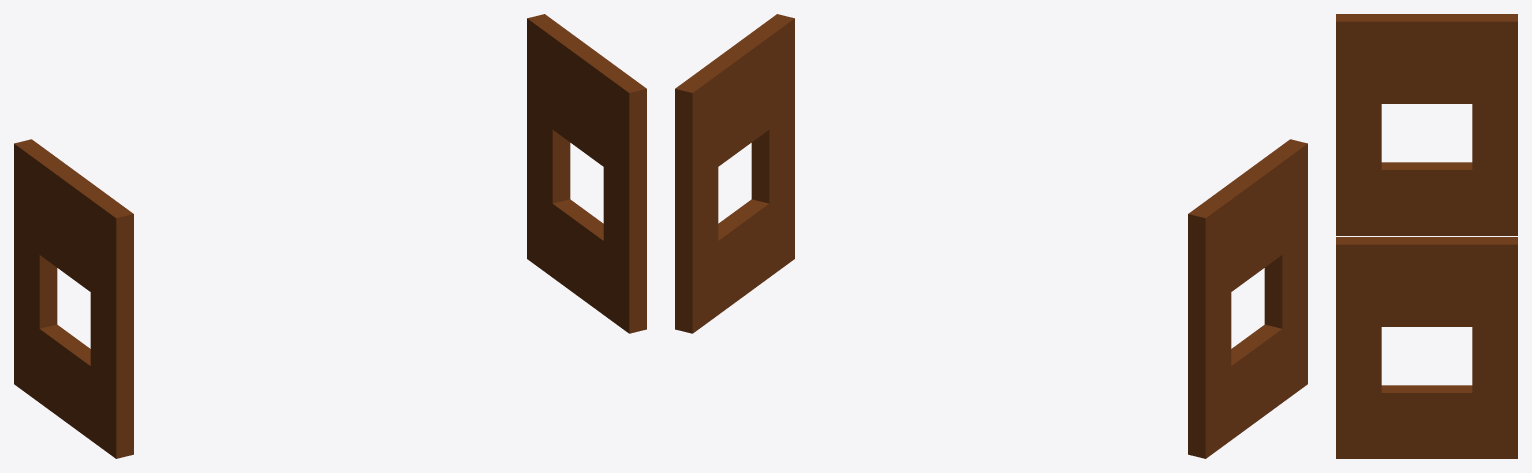
File: MIDDLE_CENTRE_GUN.obj
3 views of the same model, side by side, from view 1: azimuth 30°, elevation 25°; view 2: azimuth 150°, elevation 25°; view 3: azimuth 270°, elevation 25° (orthographic). The views are drawn at different scales.
Bounding box in the file's own units: 6 × 2.6 × 2.
